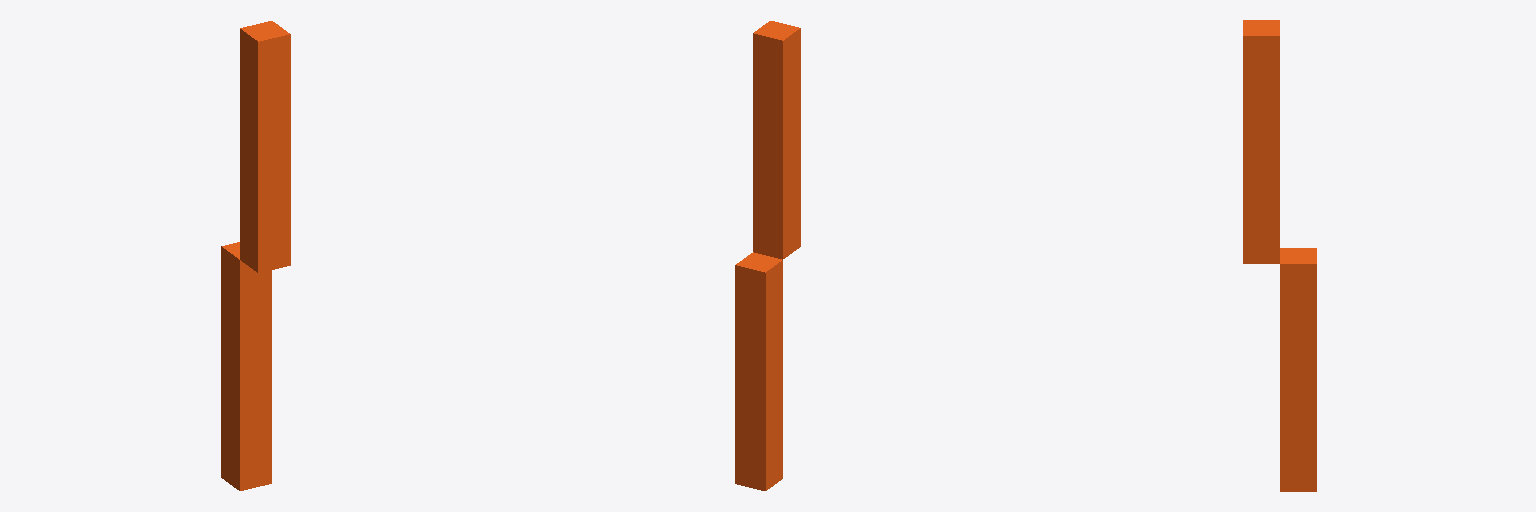
URDF robot description (Hennie):
<?xml version="1.0" ?>
<!-- Hennie URDF for IK solver -->
<!-- written by Tessel 18/04/23 -->

<robot name ="Hennie">
	<!-- Robot Link Definitions -->
	<!--     22 linkages        -->
	<link name="L_UL">
		<inertial>
			<origin rpy="0 0 0" xyz="0 -0.034 0.206"/>
			<mass value="8.566"/>
			<inertia ixx="0.259" ixy="-0.001" ixz="0" iyy="0.256" iyz="0.036" izz="0.023"/>
		</inertial>
		<visual>
            <origin xyz="0 0.03 0.2025"/>
			<geometry>
				<box size="0.06 0.06 0.413"/>
			</geometry>
			<material name="">
				<color rgba="1.0 0.45 0.15 1"/>
			</material>
		</visual>
	</link>
	<link name="L_LL">
		<inertial>
			<origin rpy="0 0 0" xyz="-0.034 -0.04 0.223"/>
			<mass value="4.159"/>
			<inertia ixx="0.055" ixy="0.001" ixz="0.006" iyy="0.064" iyz="0.002" izz="0.019"/>
		</inertial>
		<visual>
			<origin xyz="0 0.03 0.2025"/>
			<geometry>
				<box size="0.06 0.06 0.413"/>
			</geometry>
			<material name="">
				<color rgba="1.0 0.45 0.15 1"/>
			</material>
		</visual>
	</link>

	<!-- Robot Joint Definitions -->
	<!--                         -->
	<joint name="left_hfe" type="revolute">
		<origin rpy="0 0 0" xyz="0 -0.06 0.413"/>
		<axis xyz="0 1 0"/>
		<parent link="L_UL"/>
		<child link="L_LL"/>
		<limit effort="250" lower="-2.00713" upper="0.20944" velocity="3.94"/>
	</joint>
	<!-- Robot Transmission Definitions -->
	<!--                                -->
  	<transmission name="L_HFETransmission">
            <joint name="left_hfe"/>
            <actuator>
                    <mechanicalReduction>16</mechanicalReduction>
                    <motorInertia>20.3</motorInertia>
            </actuator>
  	</transmission>
</robot>

--- Facts derived from the render (not from the file) ---
3 views of the same robot in one strip: view 1: azimuth 30°, elevation 25°; view 2: azimuth 150°, elevation 25°; view 3: azimuth 270°, elevation 25° (orthographic).
Model Hennie with 2 links and 1 joints (1 revolute), rooted at L_UL, posed every joint at zero.
Visible links, largest first — view 1: L_LL, L_UL; view 2: L_UL, L_LL; view 3: L_UL, L_LL.
Link boxes in pixels (<box>): L_LL: <box>240,21,290,273</box>; L_UL: <box>221,242,271,490</box>; L_UL: <box>735,252,782,490</box>; L_LL: <box>753,21,800,259</box>; L_UL: <box>1280,248,1316,491</box>; L_LL: <box>1243,20,1279,263</box>.
Bounding box of the posed robot: 0.06 × 0.12 × 0.826 m (x, y, z).
Geometry: primitives only (box / cylinder / sphere), no mesh files.
